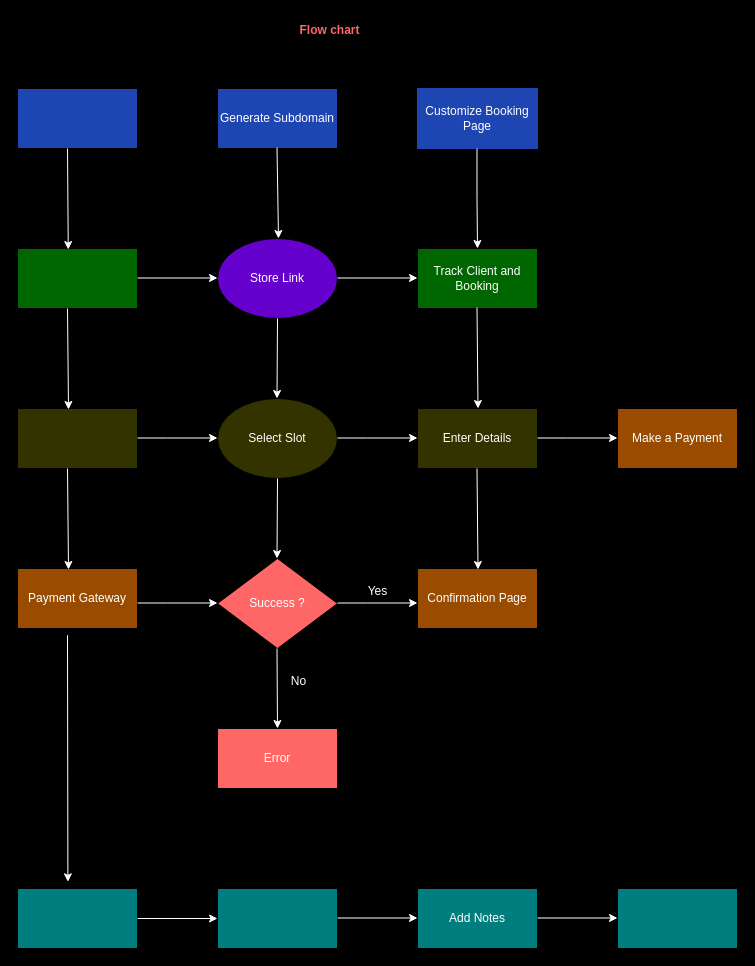
The diagram is 755 pixels wide and 966 high, and some of its shapes have lost their labels. Each missing label, with the centre of its shape:
"Analytics" belongs at (677,918).
"Client Signup" belongs at (77,118).
"CRM Dashboard" belongs at (77,918).
"Customer Booking Page" belongs at (77,438).
"Generate Custom Link" belongs at (77,278).
"View Booking" belongs at (277,918).
